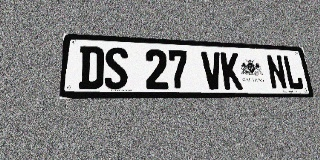2: (145, 49, 168, 89)
7: (167, 50, 190, 89)
D: (78, 46, 104, 89)
K: (220, 52, 243, 90)
L: (282, 55, 304, 90)
N: (265, 54, 288, 90)
S: (104, 47, 128, 89)
V: (201, 51, 224, 89)
